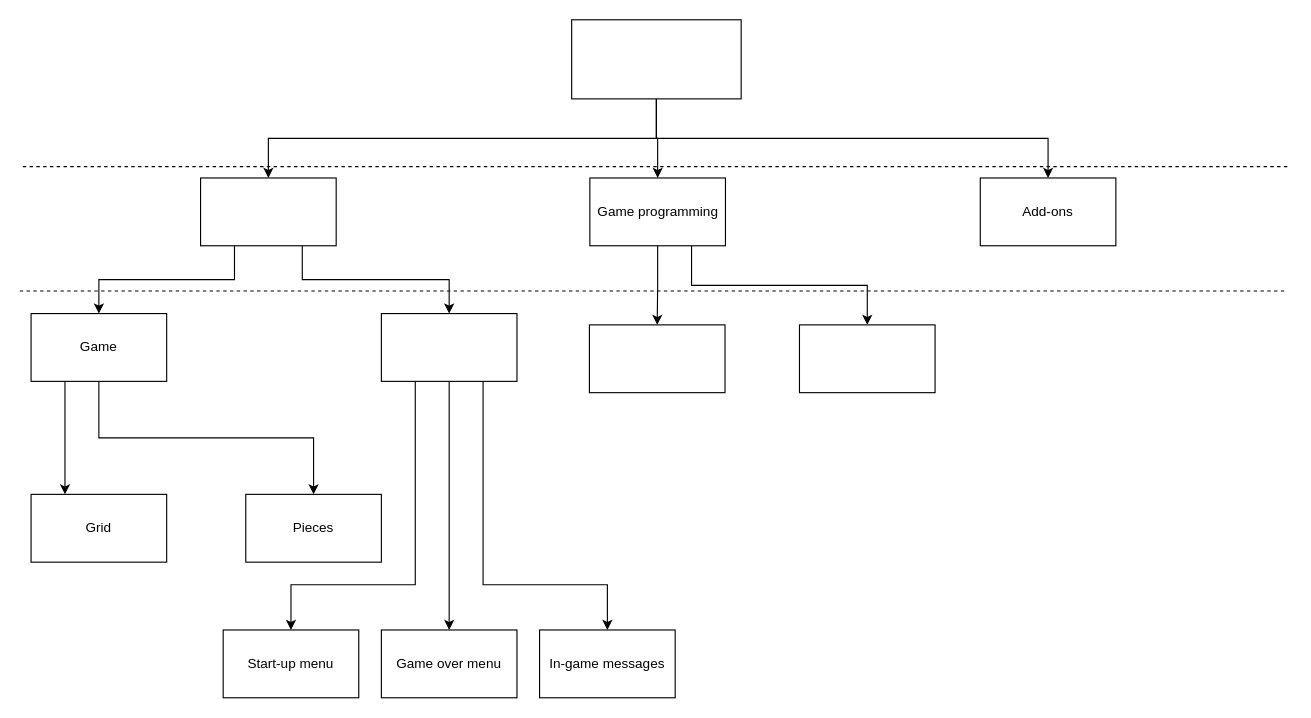
Image size: 1311x718. Some labels were removed from this diagram. The shapes that lost their labels are listed below. From the top down, each one's box as (x1, y1, x2, y2) in pixels, then its label:
(571, 19, 741, 99): Battleships
(199, 177, 336, 246): Graphic user Interface
(380, 312, 517, 381): Menus
